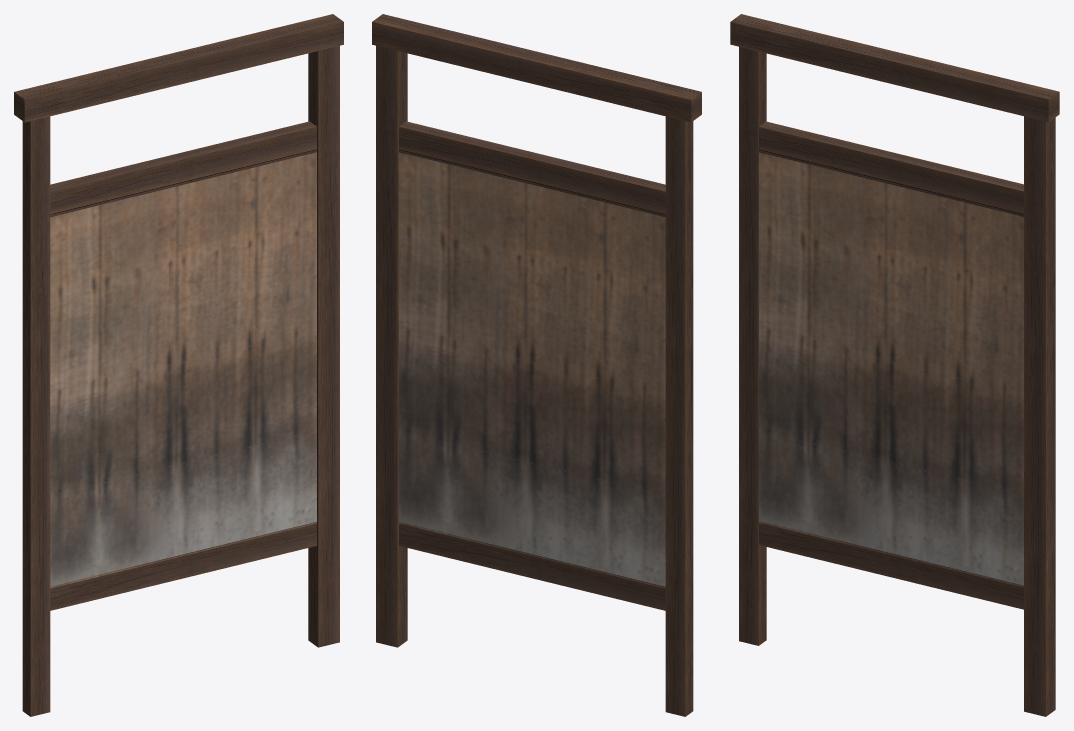
File: fence02a_0t.fbx
3 renders of one model, left to right at view 1: azimuth 30°, elevation 25°; view 2: azimuth 150°, elevation 25°; view 3: azimuth 330°, elevation 25°, orthographic.
Parts seen in each view (by area): view 1: fence02a_0t; view 2: fence02a_0t; view 3: fence02a_0t.
Part boxes in pixels (x1,y1,x2,y2): fence02a_0t: (14,14,343,716); fence02a_0t: (372,14,701,716); fence02a_0t: (730,14,1059,716).
Bounding box in the file's own units: 115 × 214 × 6.75.
